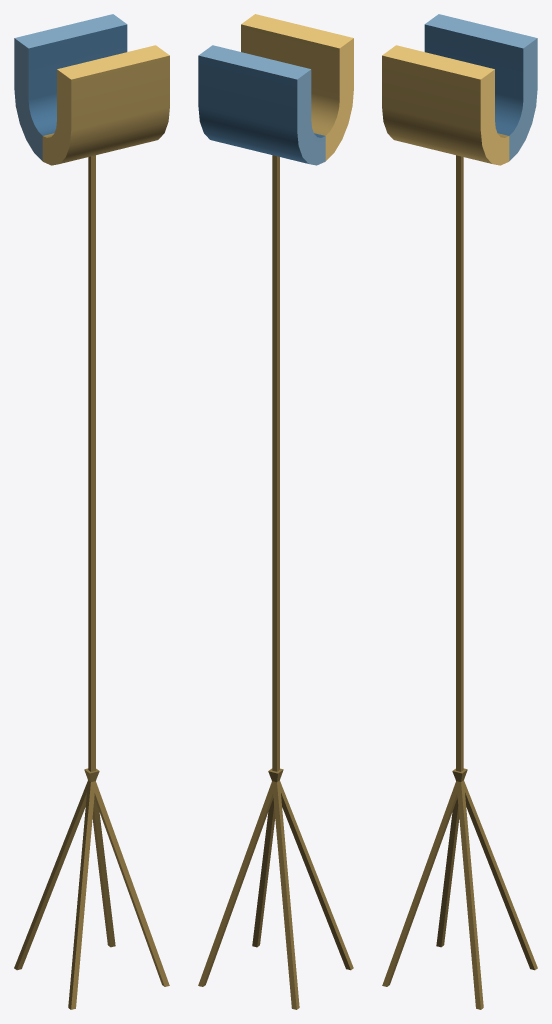
File: Rope.fbx
3 views of the same model, side by side, from view 1: azimuth 30°, elevation 25°; view 2: azimuth 150°, elevation 25°; view 3: azimuth 330°, elevation 25° (orthographic).
Visible parts, largest first — view 1: Rope; view 2: Rope; view 3: Rope.
Boxes of the visible parts, x1,y1,x2,y2 form: Rope: (14,14,169,1009); Rope: (198,14,353,1009); Rope: (382,14,537,1009).
Size of the model in its own units: 1 by 9 by 1.
